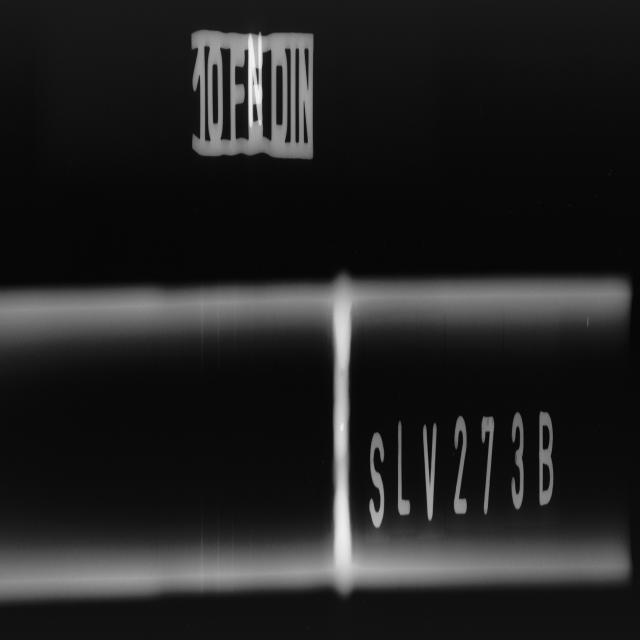FF: (338, 356, 349, 383)
